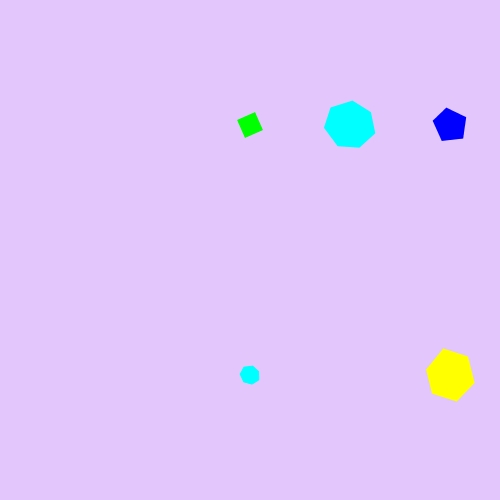heptagon: (322, 98, 379, 153), (236, 361, 265, 389)
hexagon: (420, 350, 481, 401)
pentagon: (430, 105, 471, 146)
quadrilateral: (233, 108, 268, 143)
